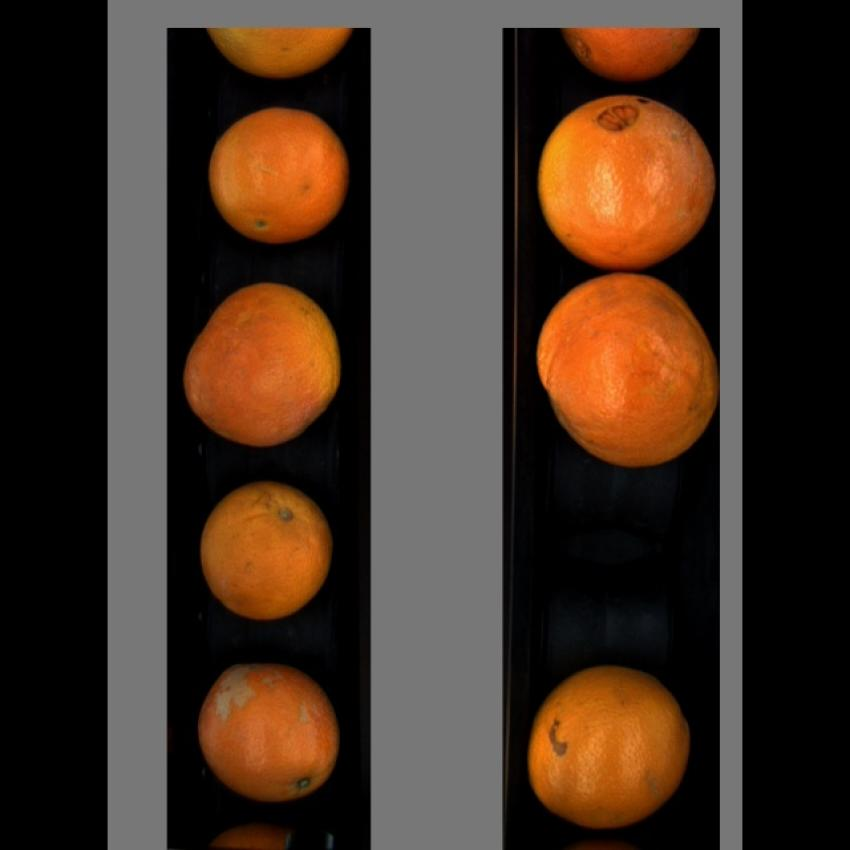Buen estado: (208, 106, 356, 244), (552, 26, 704, 80), (197, 30, 357, 81)
Mal estado: (531, 270, 721, 473), (531, 98, 722, 272), (524, 662, 695, 830), (180, 281, 345, 454), (198, 657, 344, 802), (201, 477, 336, 621)
